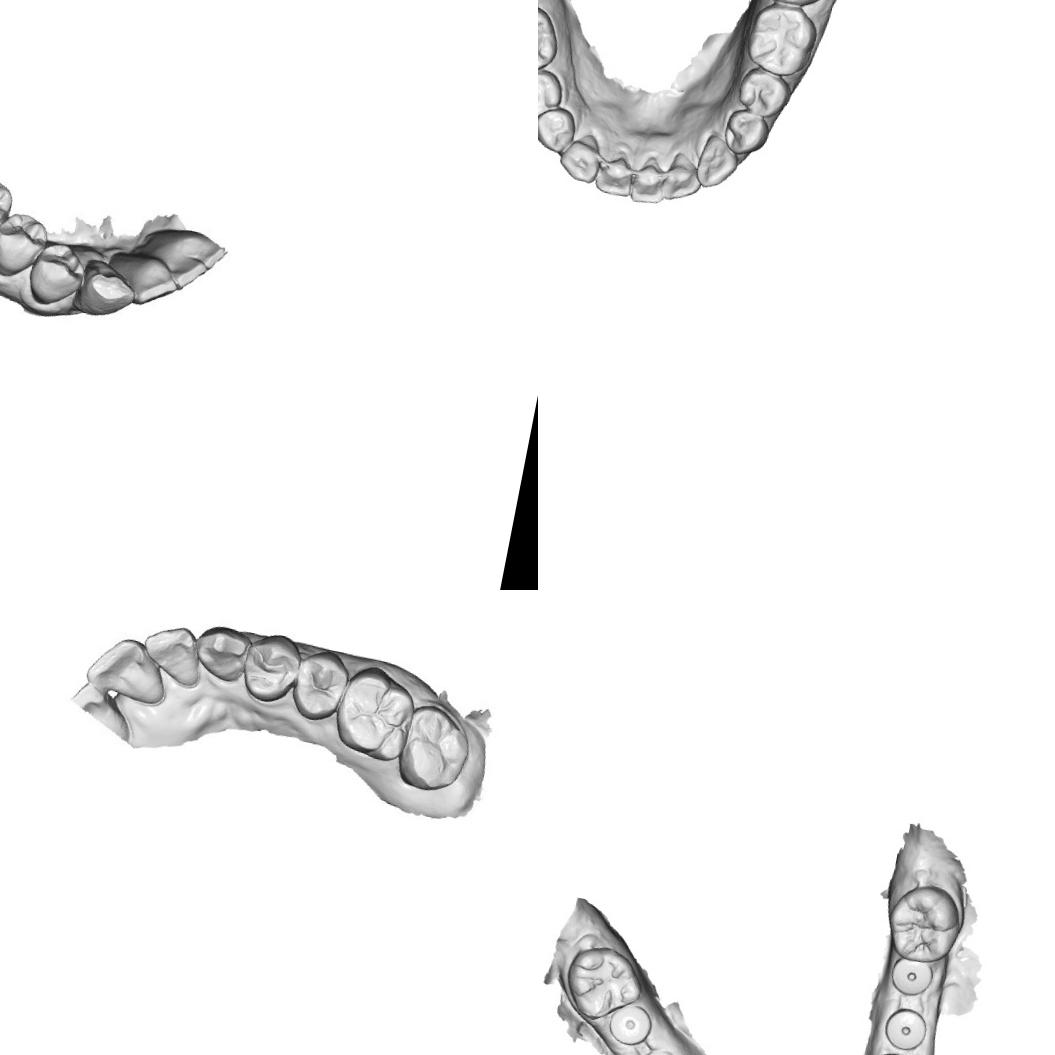canine: (66, 252, 138, 326), (190, 620, 252, 686), (690, 129, 744, 193), (553, 126, 608, 186)
implant: (878, 1002, 931, 1054), (886, 955, 936, 1002), (606, 1000, 654, 1048), (631, 1043, 684, 1055)
incisor: (79, 629, 172, 710), (135, 618, 207, 690), (103, 244, 178, 310), (145, 233, 210, 295), (657, 150, 705, 206), (626, 156, 671, 208), (591, 151, 638, 199)
molar: (327, 657, 424, 766), (555, 938, 651, 1028), (391, 698, 475, 798), (880, 877, 967, 969), (739, 0, 822, 82), (538, 0, 566, 81)
premolar: (235, 626, 306, 707), (286, 644, 355, 724), (19, 240, 87, 312), (0, 201, 47, 283), (731, 62, 796, 120), (718, 104, 773, 160), (538, 100, 581, 158), (538, 61, 567, 123)
